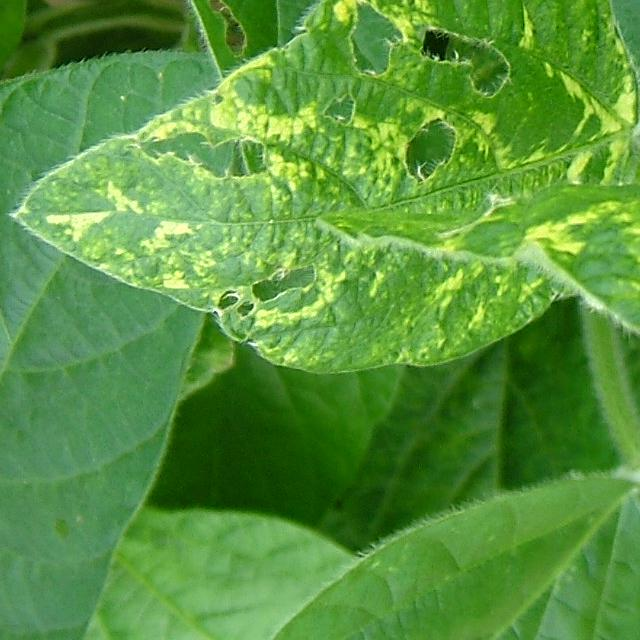Tomato leaf mosaic virus: (11, 0, 638, 399)
